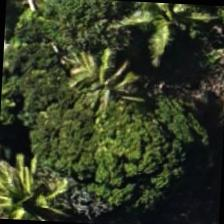Kelapa_Sawit: (55, 32, 150, 127), (101, 0, 194, 52)
